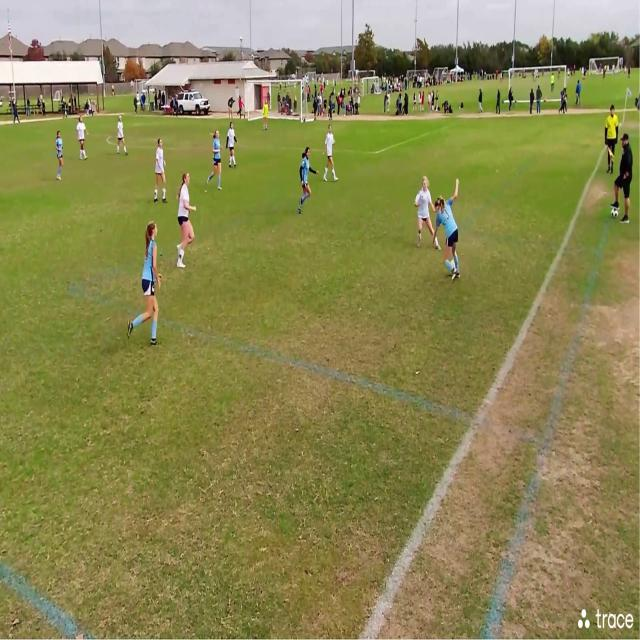ball: (450, 258, 460, 276)
team1: (125, 218, 166, 354), (443, 190, 462, 281), (298, 145, 314, 213), (210, 132, 226, 190), (55, 132, 66, 181)
team2: (175, 171, 200, 270), (416, 182, 440, 251), (155, 138, 169, 205), (324, 125, 340, 183), (226, 122, 238, 166), (79, 118, 89, 162), (118, 117, 128, 156)
